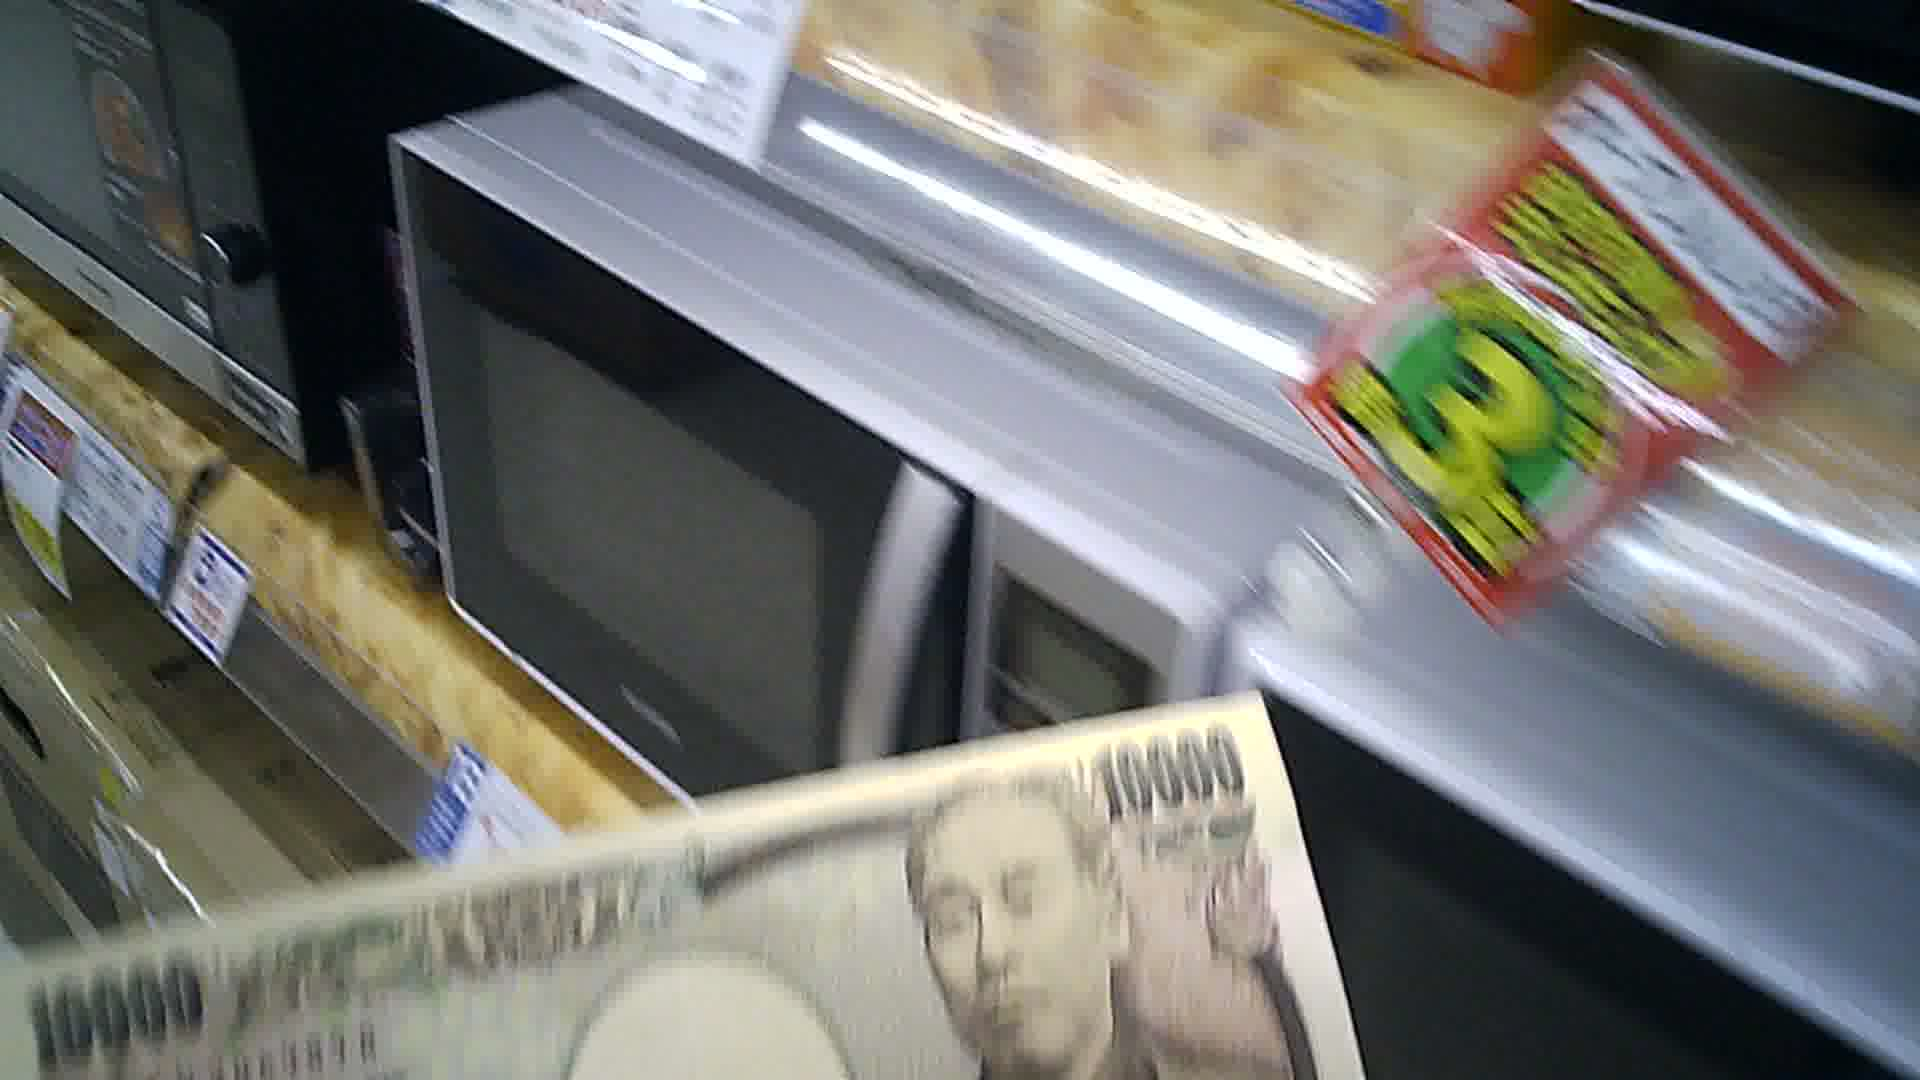10,000 Yen: (41, 690, 1350, 1079)
